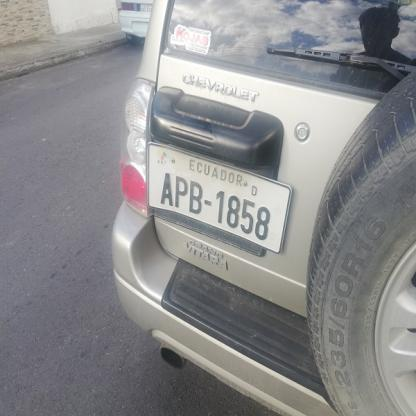Placa: (150, 141, 293, 255)
